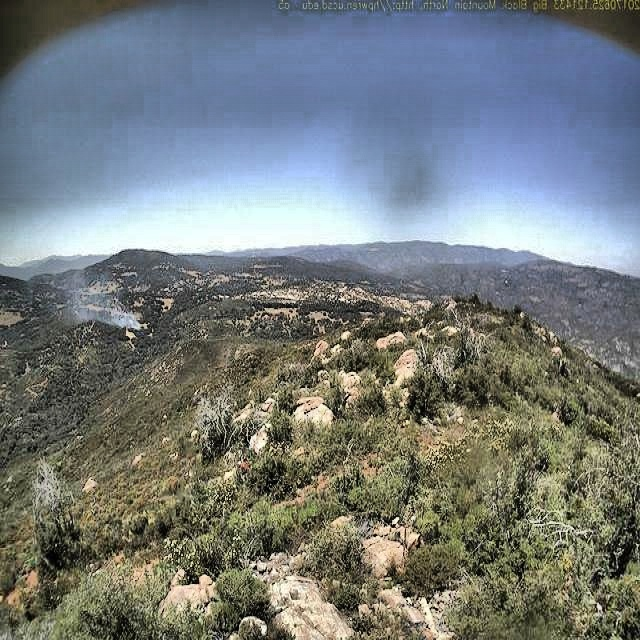smoke: (61, 277, 144, 331)
